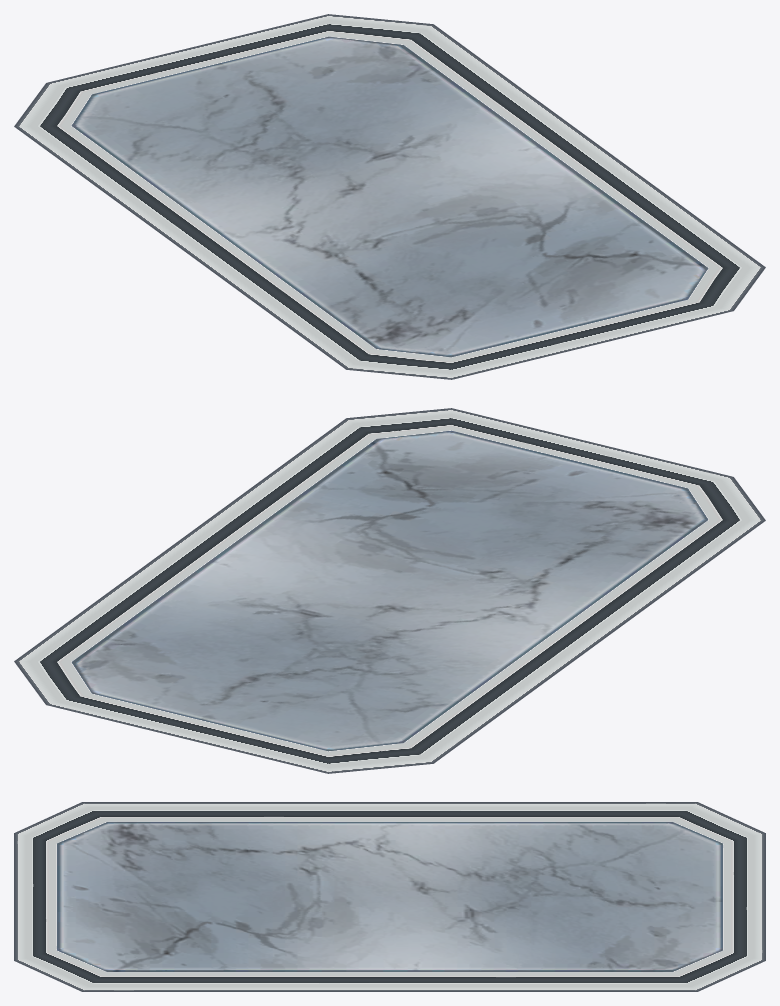
The model's file is my_millenniumlounge_01_carpet_07.glb.
3 renders of one model, top to bottom at view 1: azimuth 30°, elevation 25°; view 2: azimuth 150°, elevation 25°; view 3: azimuth 270°, elevation 25°, orthographic. The views are drawn at different scales.
Visible parts, largest first — view 1: my_millenniumlounge_01_carpet_07; view 2: my_millenniumlounge_01_carpet_07; view 3: my_millenniumlounge_01_carpet_07.
Part boxes in pixels (box(x1,y1,x2,y2)): my_millenniumlounge_01_carpet_07: box(14, 14, 765, 379); my_millenniumlounge_01_carpet_07: box(14, 408, 765, 773); my_millenniumlounge_01_carpet_07: box(14, 802, 765, 991).
Bounding box in the file's own units: 0.0172 × 2.33e-12 × 0.0288.
1 material, 1 textured.
